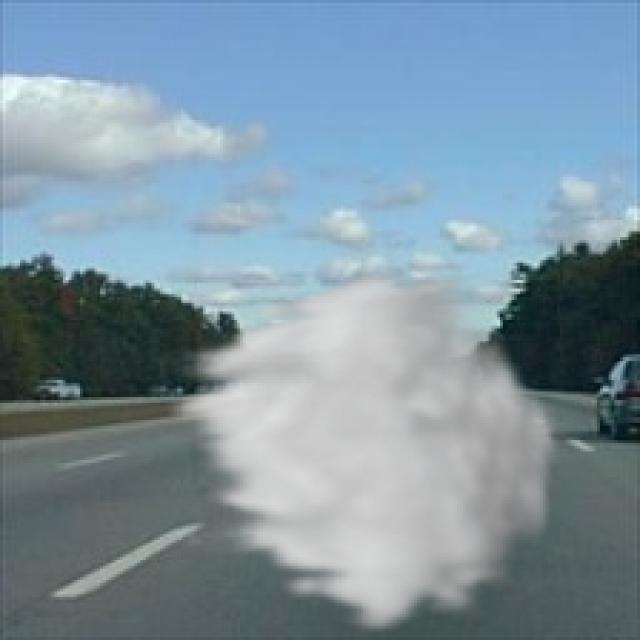smoke: (154, 269, 566, 637)
